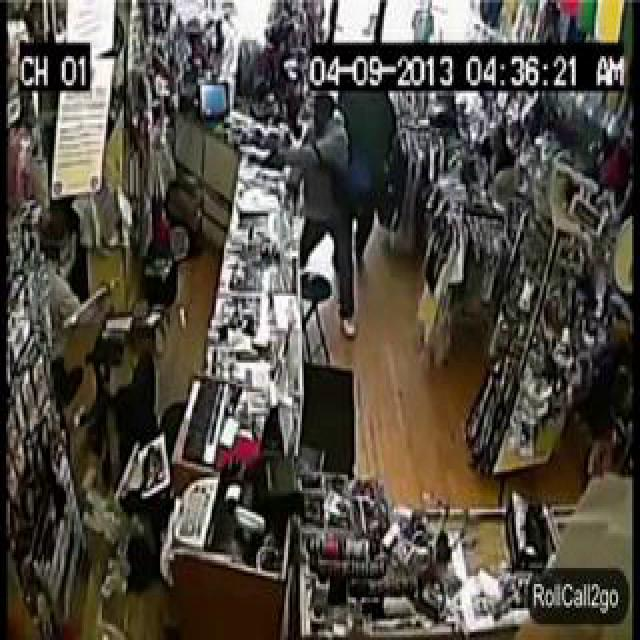robbery: (250, 12, 418, 336)
